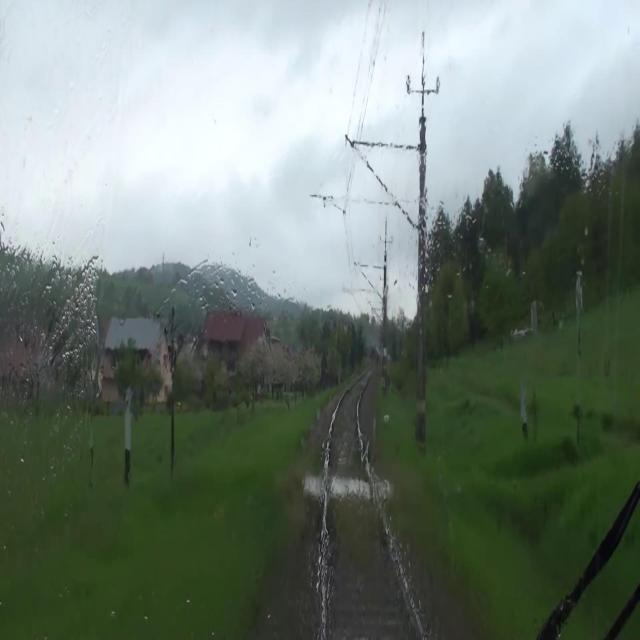rail-track: (327, 375, 421, 639)
